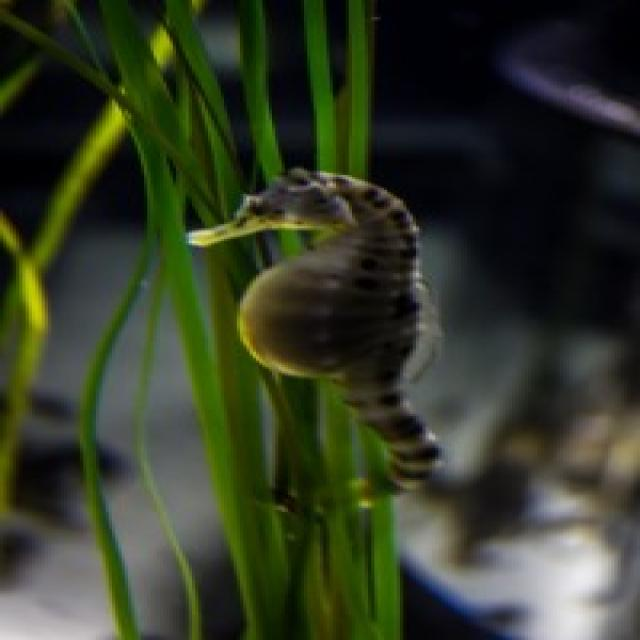Seahorse: (173, 160, 478, 545)
